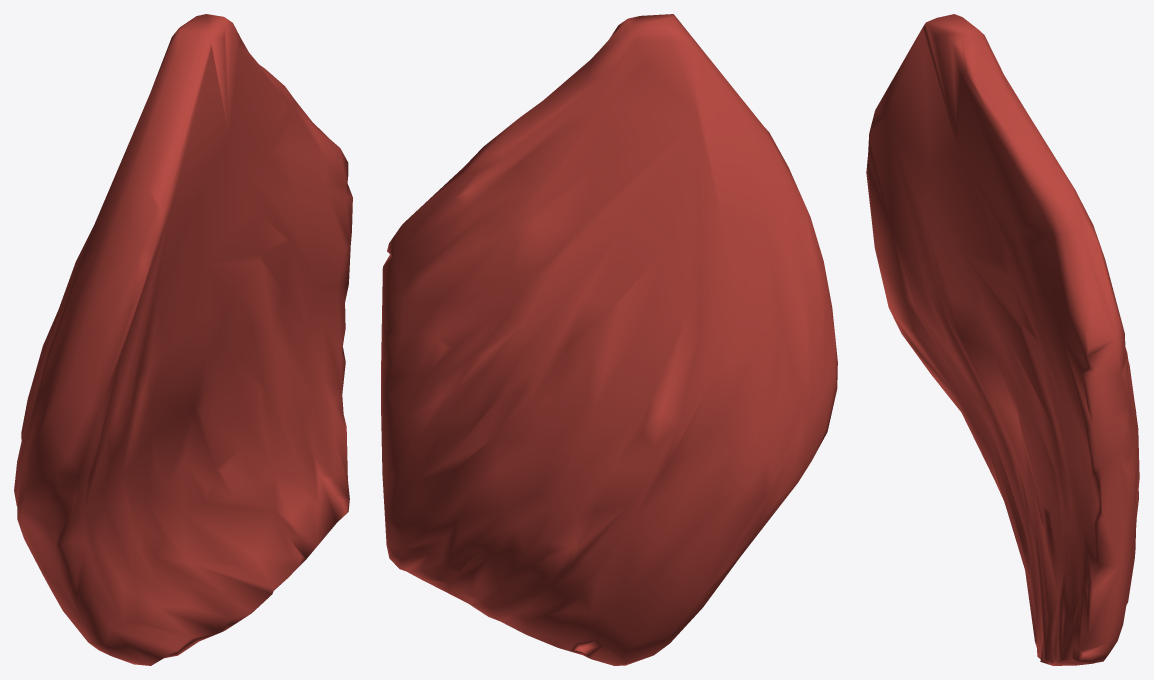
The model's file is musculos-posterior-crico-arytenoid-muscle-r.glb.
3 renders of one model, left to right at view 1: azimuth 30°, elevation 25°; view 2: azimuth 150°, elevation 25°; view 3: azimuth 270°, elevation 25°, orthographic. The views are drawn at different scales.
Visible parts, largest first — view 1: Posterior crico-arytenoid muscle.r; view 2: Posterior crico-arytenoid muscle.r; view 3: Posterior crico-arytenoid muscle.r.
Part boxes in pixels (x1,y1,x2,y2): Posterior crico-arytenoid muscle.r: [14, 14, 352, 665]; Posterior crico-arytenoid muscle.r: [381, 14, 837, 665]; Posterior crico-arytenoid muscle.r: [866, 14, 1139, 665].
Size of the model in its own units: 0.00909 by 0.0143 by 0.00573.
